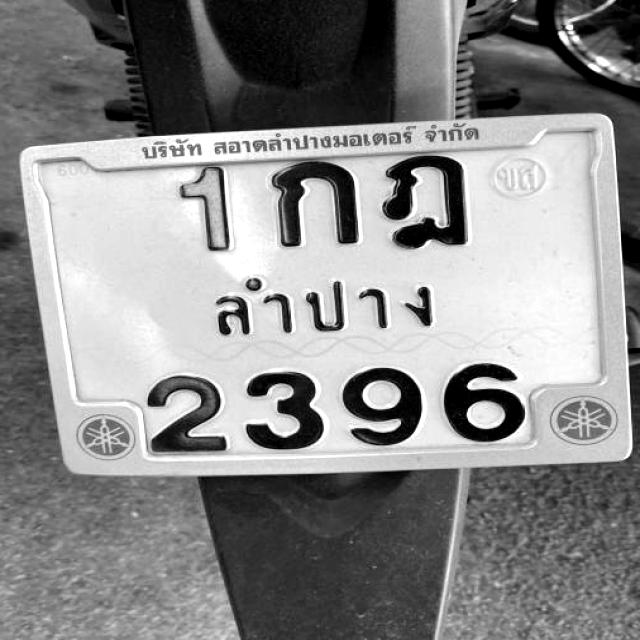letters: (255, 143, 367, 248), (379, 144, 476, 255), (148, 366, 230, 460), (344, 362, 425, 444), (246, 369, 328, 448), (450, 358, 523, 440), (180, 163, 240, 239)
license-plate: (29, 119, 622, 470)
province: (192, 257, 463, 334)
